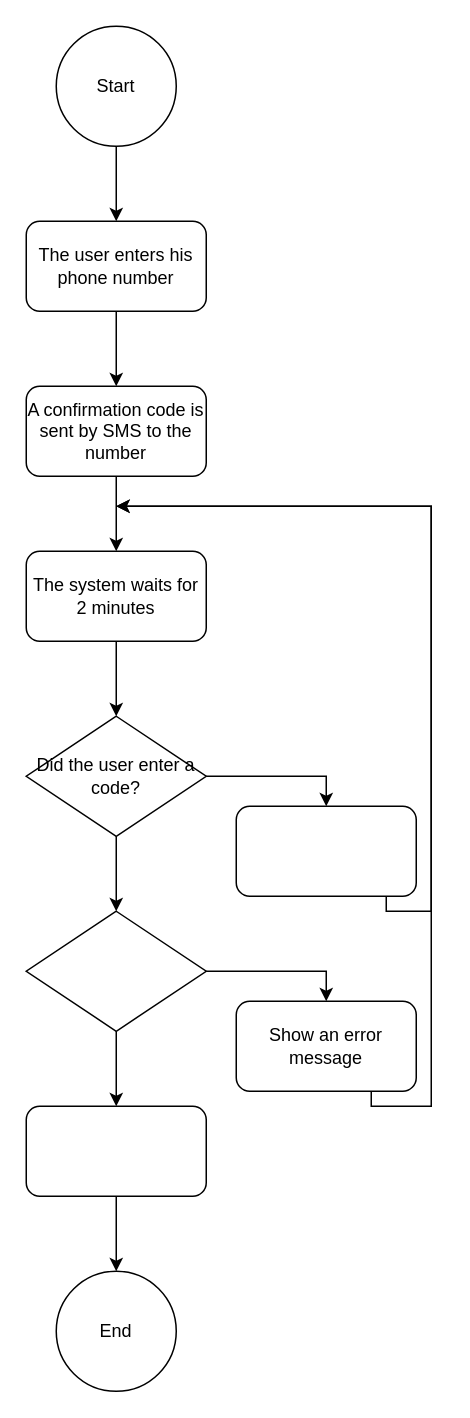
Some shapes in this 470 by 1418 pixel diagram are drawn without their labels. Each missing label, with the centre of its shape:
"Enable resend/send code by phone call" belongs at point 325,850.
"Is the entered code correct?" belongs at point 115,970.
"The entered number is added to the database" belongs at point 115,1150.
